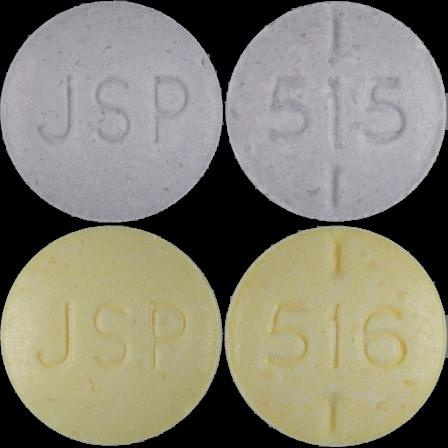63629-1838: (0, 0, 224, 224)
